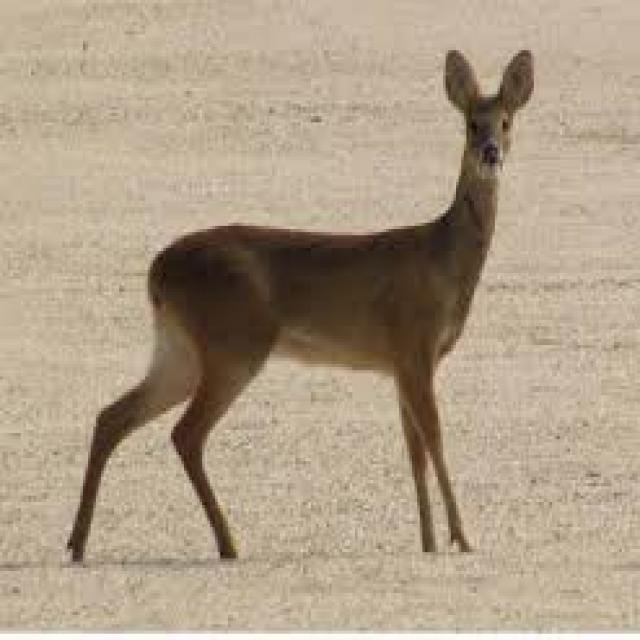elk: (64, 39, 543, 566)
